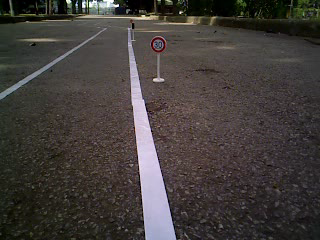limit 30: (148, 35, 169, 54)
